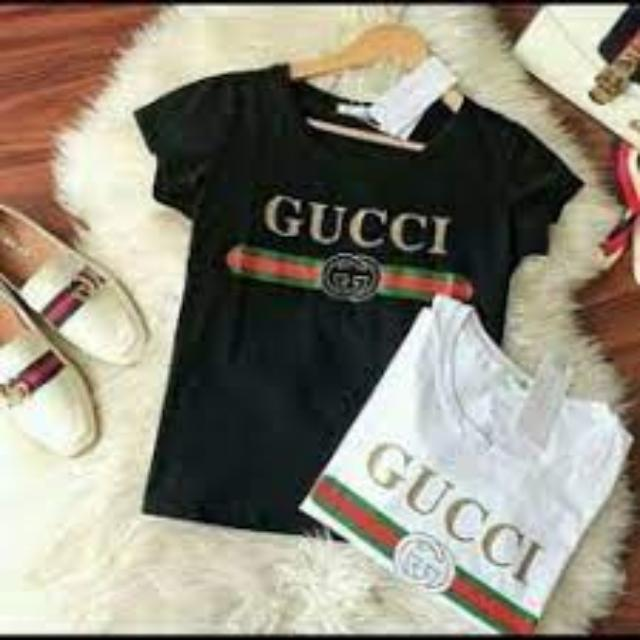Gucci: (368, 436, 548, 584), (258, 188, 456, 260), (388, 534, 454, 592), (318, 248, 384, 302)
